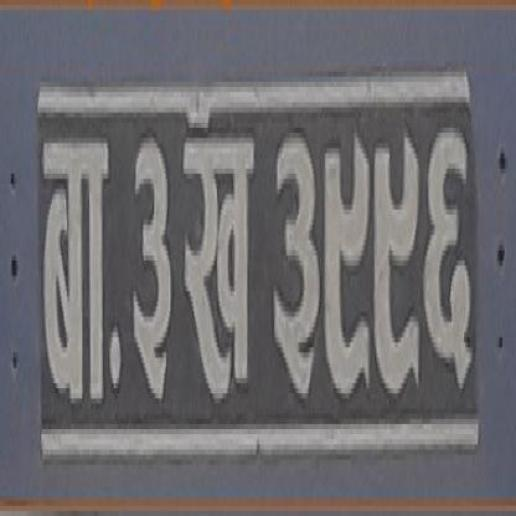3: (271, 128, 322, 408), (127, 128, 176, 414)
6: (423, 118, 474, 403)
9: (373, 118, 423, 409), (323, 123, 374, 408)
ba: (36, 118, 109, 419)
kha: (179, 128, 258, 414)
